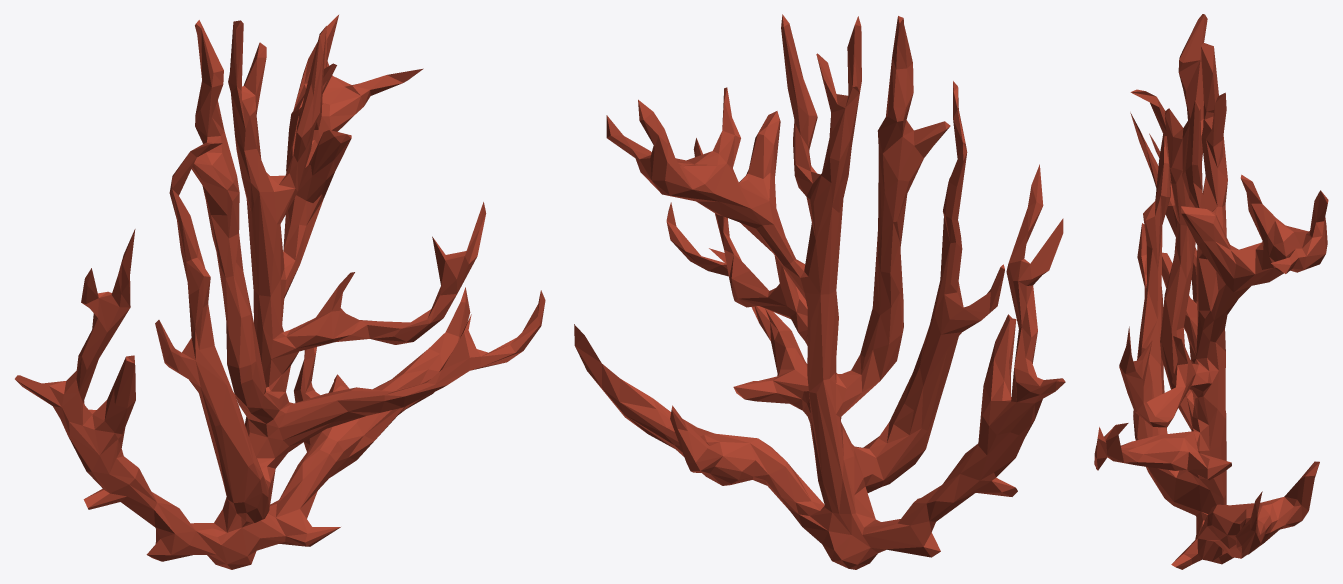
File: Plant4.fbx
3 views of the same model, side by side, from view 1: azimuth 30°, elevation 25°; view 2: azimuth 150°, elevation 25°; view 3: azimuth 270°, elevation 25° (orthographic). The views are drawn at different scales.
Parts seen in each view (by area): view 1: pCube13; view 2: pCube13; view 3: pCube13.
Part boxes in pixels (x1,y1,x2,y2): pCube13: (15, 15, 545, 569); pCube13: (574, 14, 1065, 569); pCube13: (1094, 14, 1328, 569).
Bounding box in the file's own units: 3.77 × 4.25 × 1.71.
